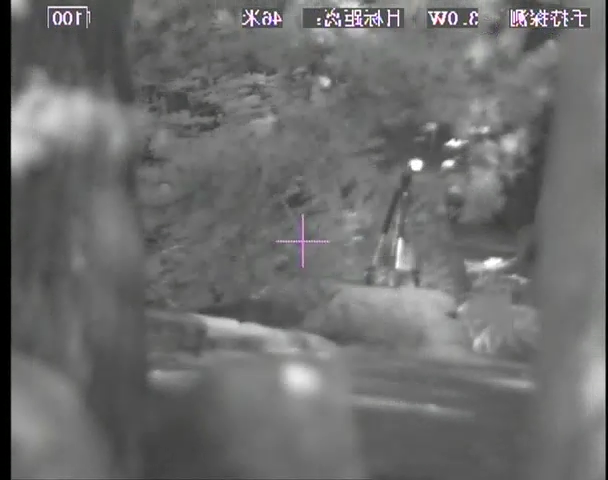my: (408, 157, 423, 173)
